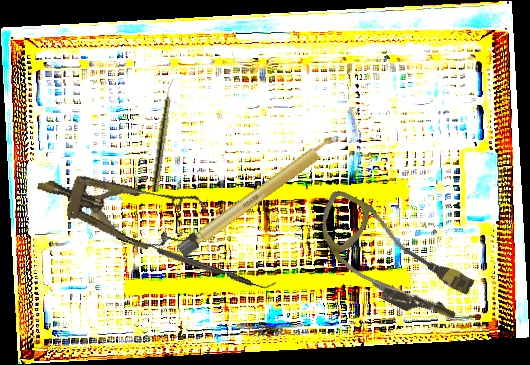Cannula: (299, 187, 484, 333)
Chopper: (115, 225, 277, 296)
Handpiece: (150, 78, 176, 193)
Scalpel Handle: (176, 131, 343, 258)
Speculum: (29, 153, 209, 261)
